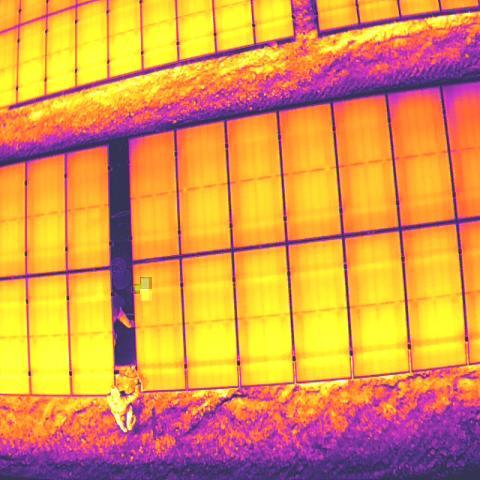fault: (140, 278, 153, 289), (140, 291, 152, 301), (134, 284, 140, 294)
